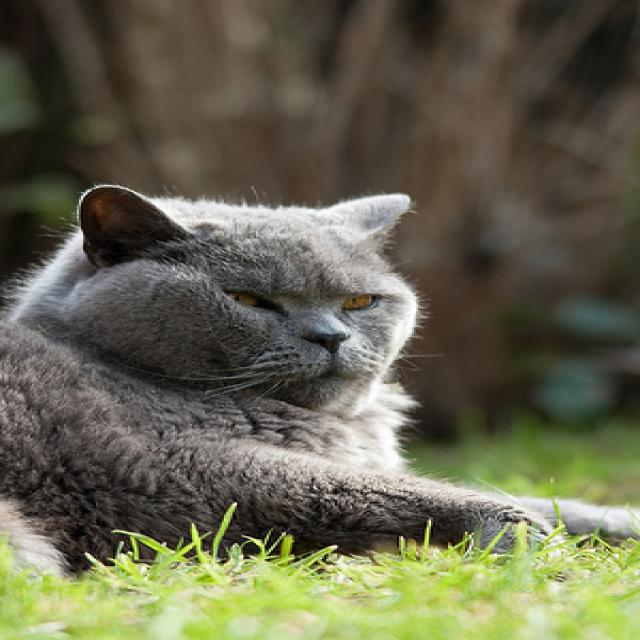British Shorthair: (0, 183, 640, 579)
